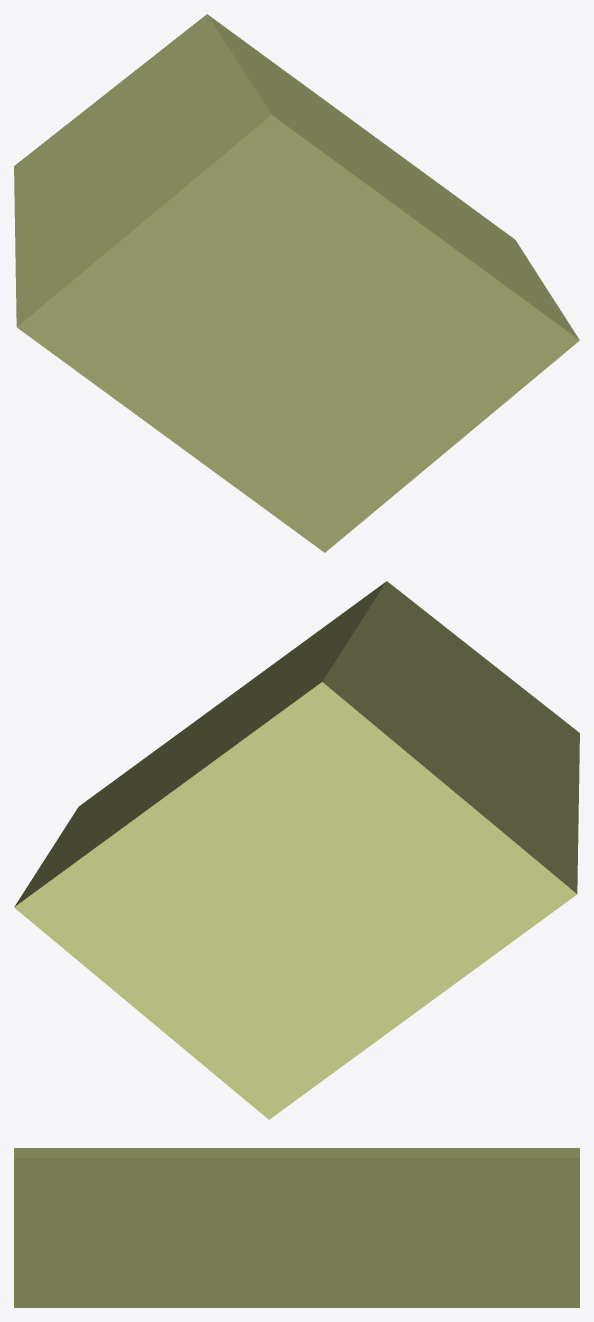
3 views of the same model, one above another, from view 1: azimuth 30°, elevation 25°; view 2: azimuth 150°, elevation 25°; view 3: azimuth 270°, elevation 25° (orthographic). The views are drawn at different scales.
Visible parts, largest first — view 1: 0_1_2_0_0_2_0_1_1_3; view 2: 0_1_2_0_0_2_0_1_1_3; view 3: 0_1_2_0_0_2_0_1_1_3.
Boxes of the visible parts, x1=… form: 0_1_2_0_0_2_0_1_1_3: x1=14, y1=14, x2=579, y2=552; 0_1_2_0_0_2_0_1_1_3: x1=14, y1=581, x2=579, y2=1119; 0_1_2_0_0_2_0_1_1_3: x1=14, y1=1148, x2=579, y2=1307.
Bounding box in the file's own units: 2.9 × 2.87 × 6.
